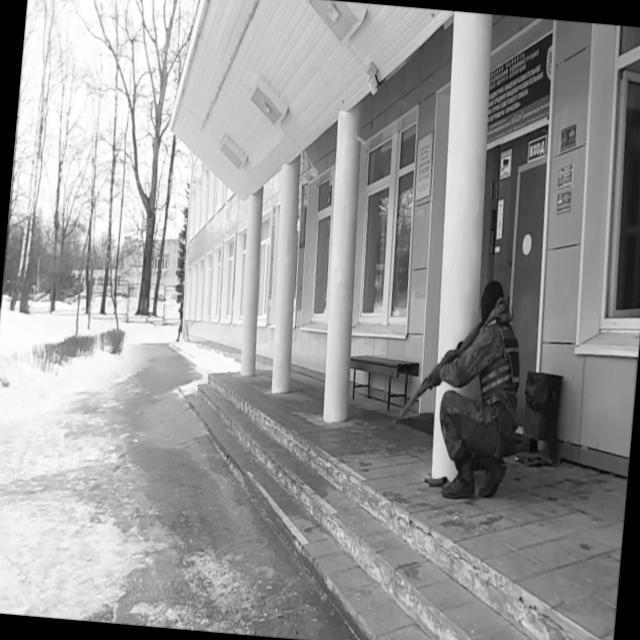gun: (393, 311, 483, 434)
person with a gun: (387, 270, 528, 504)
